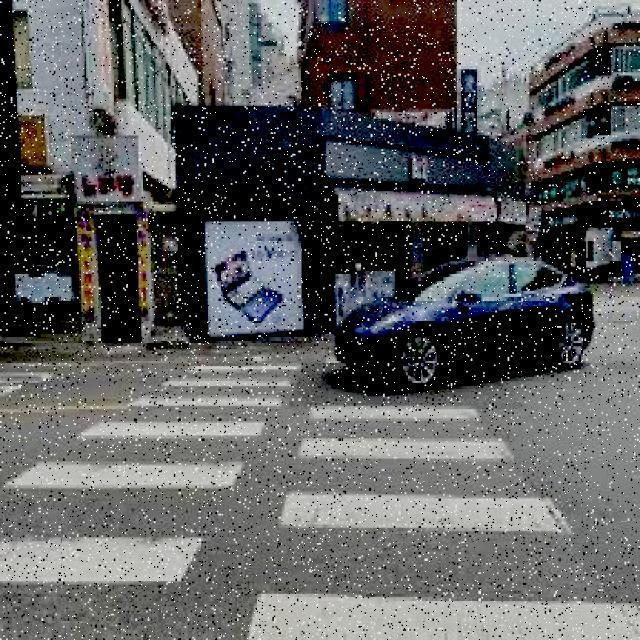crosswalk: (249, 372, 639, 640), (0, 359, 298, 586)
